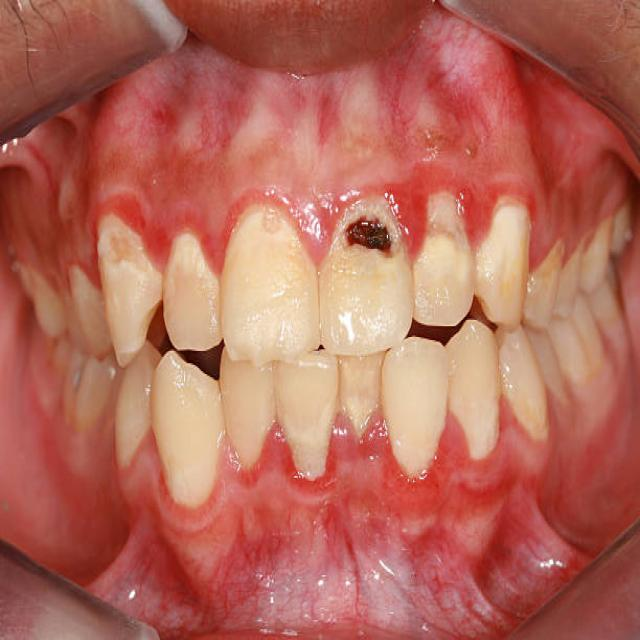caries: (340, 209, 398, 276)
